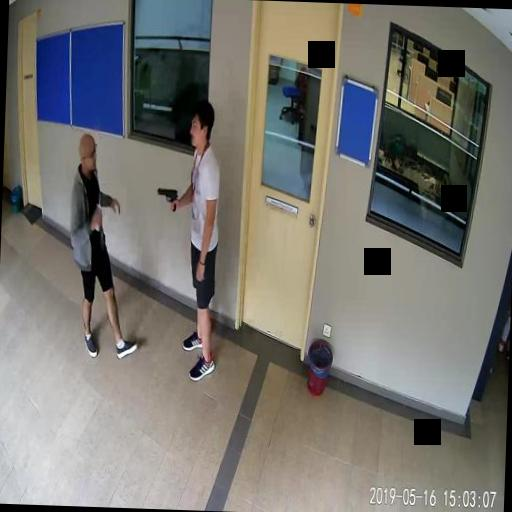Handgun: (154, 184, 176, 212)
